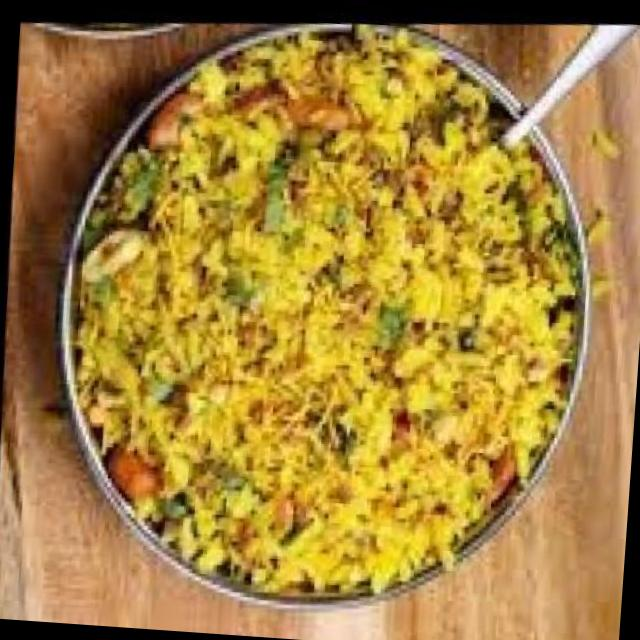poha: (48, 0, 596, 620)
